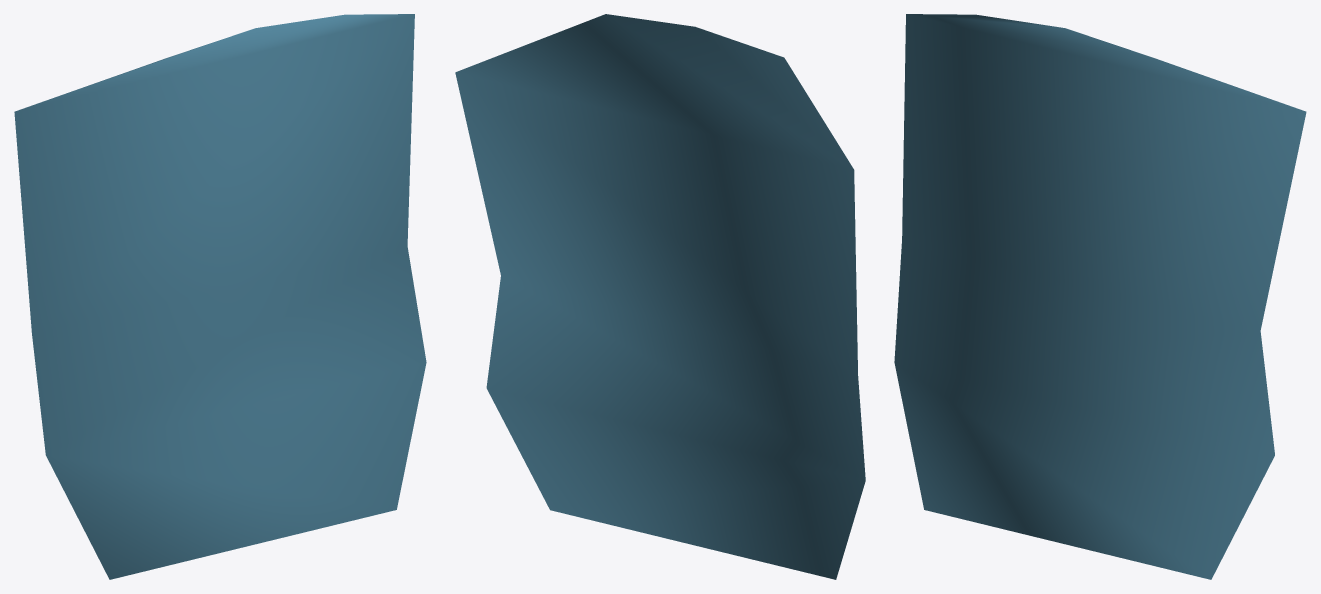
Rendered from Headmesh.fbx.
3 views of the same model, side by side, from view 1: azimuth 30°, elevation 25°; view 2: azimuth 150°, elevation 25°; view 3: azimuth 330°, elevation 25° (orthographic).
Parts seen in each view (by area): view 1: BaseModel.003; view 2: BaseModel.003; view 3: BaseModel.003.
Boxes of the visible parts, box(x1,y1,x2,y2) form: BaseModel.003: box(14, 14, 426, 579); BaseModel.003: box(455, 14, 865, 579); BaseModel.003: box(894, 14, 1306, 579).
Bounding box in the file's own units: 19 × 23.51 × 3.36.
